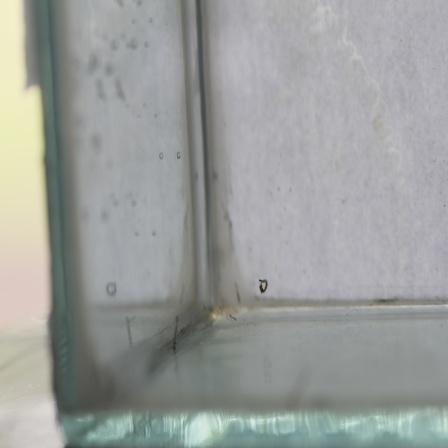Jentik-Nyamuk: (253, 269, 272, 300)
